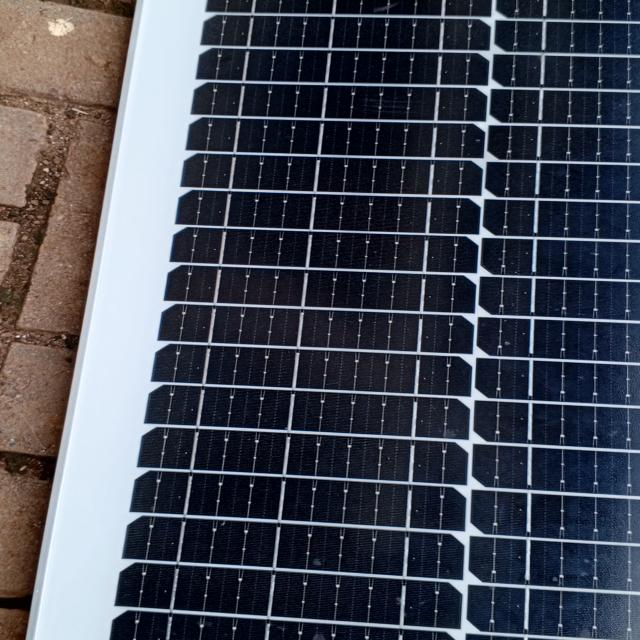Clean: (181, 0, 640, 640)
